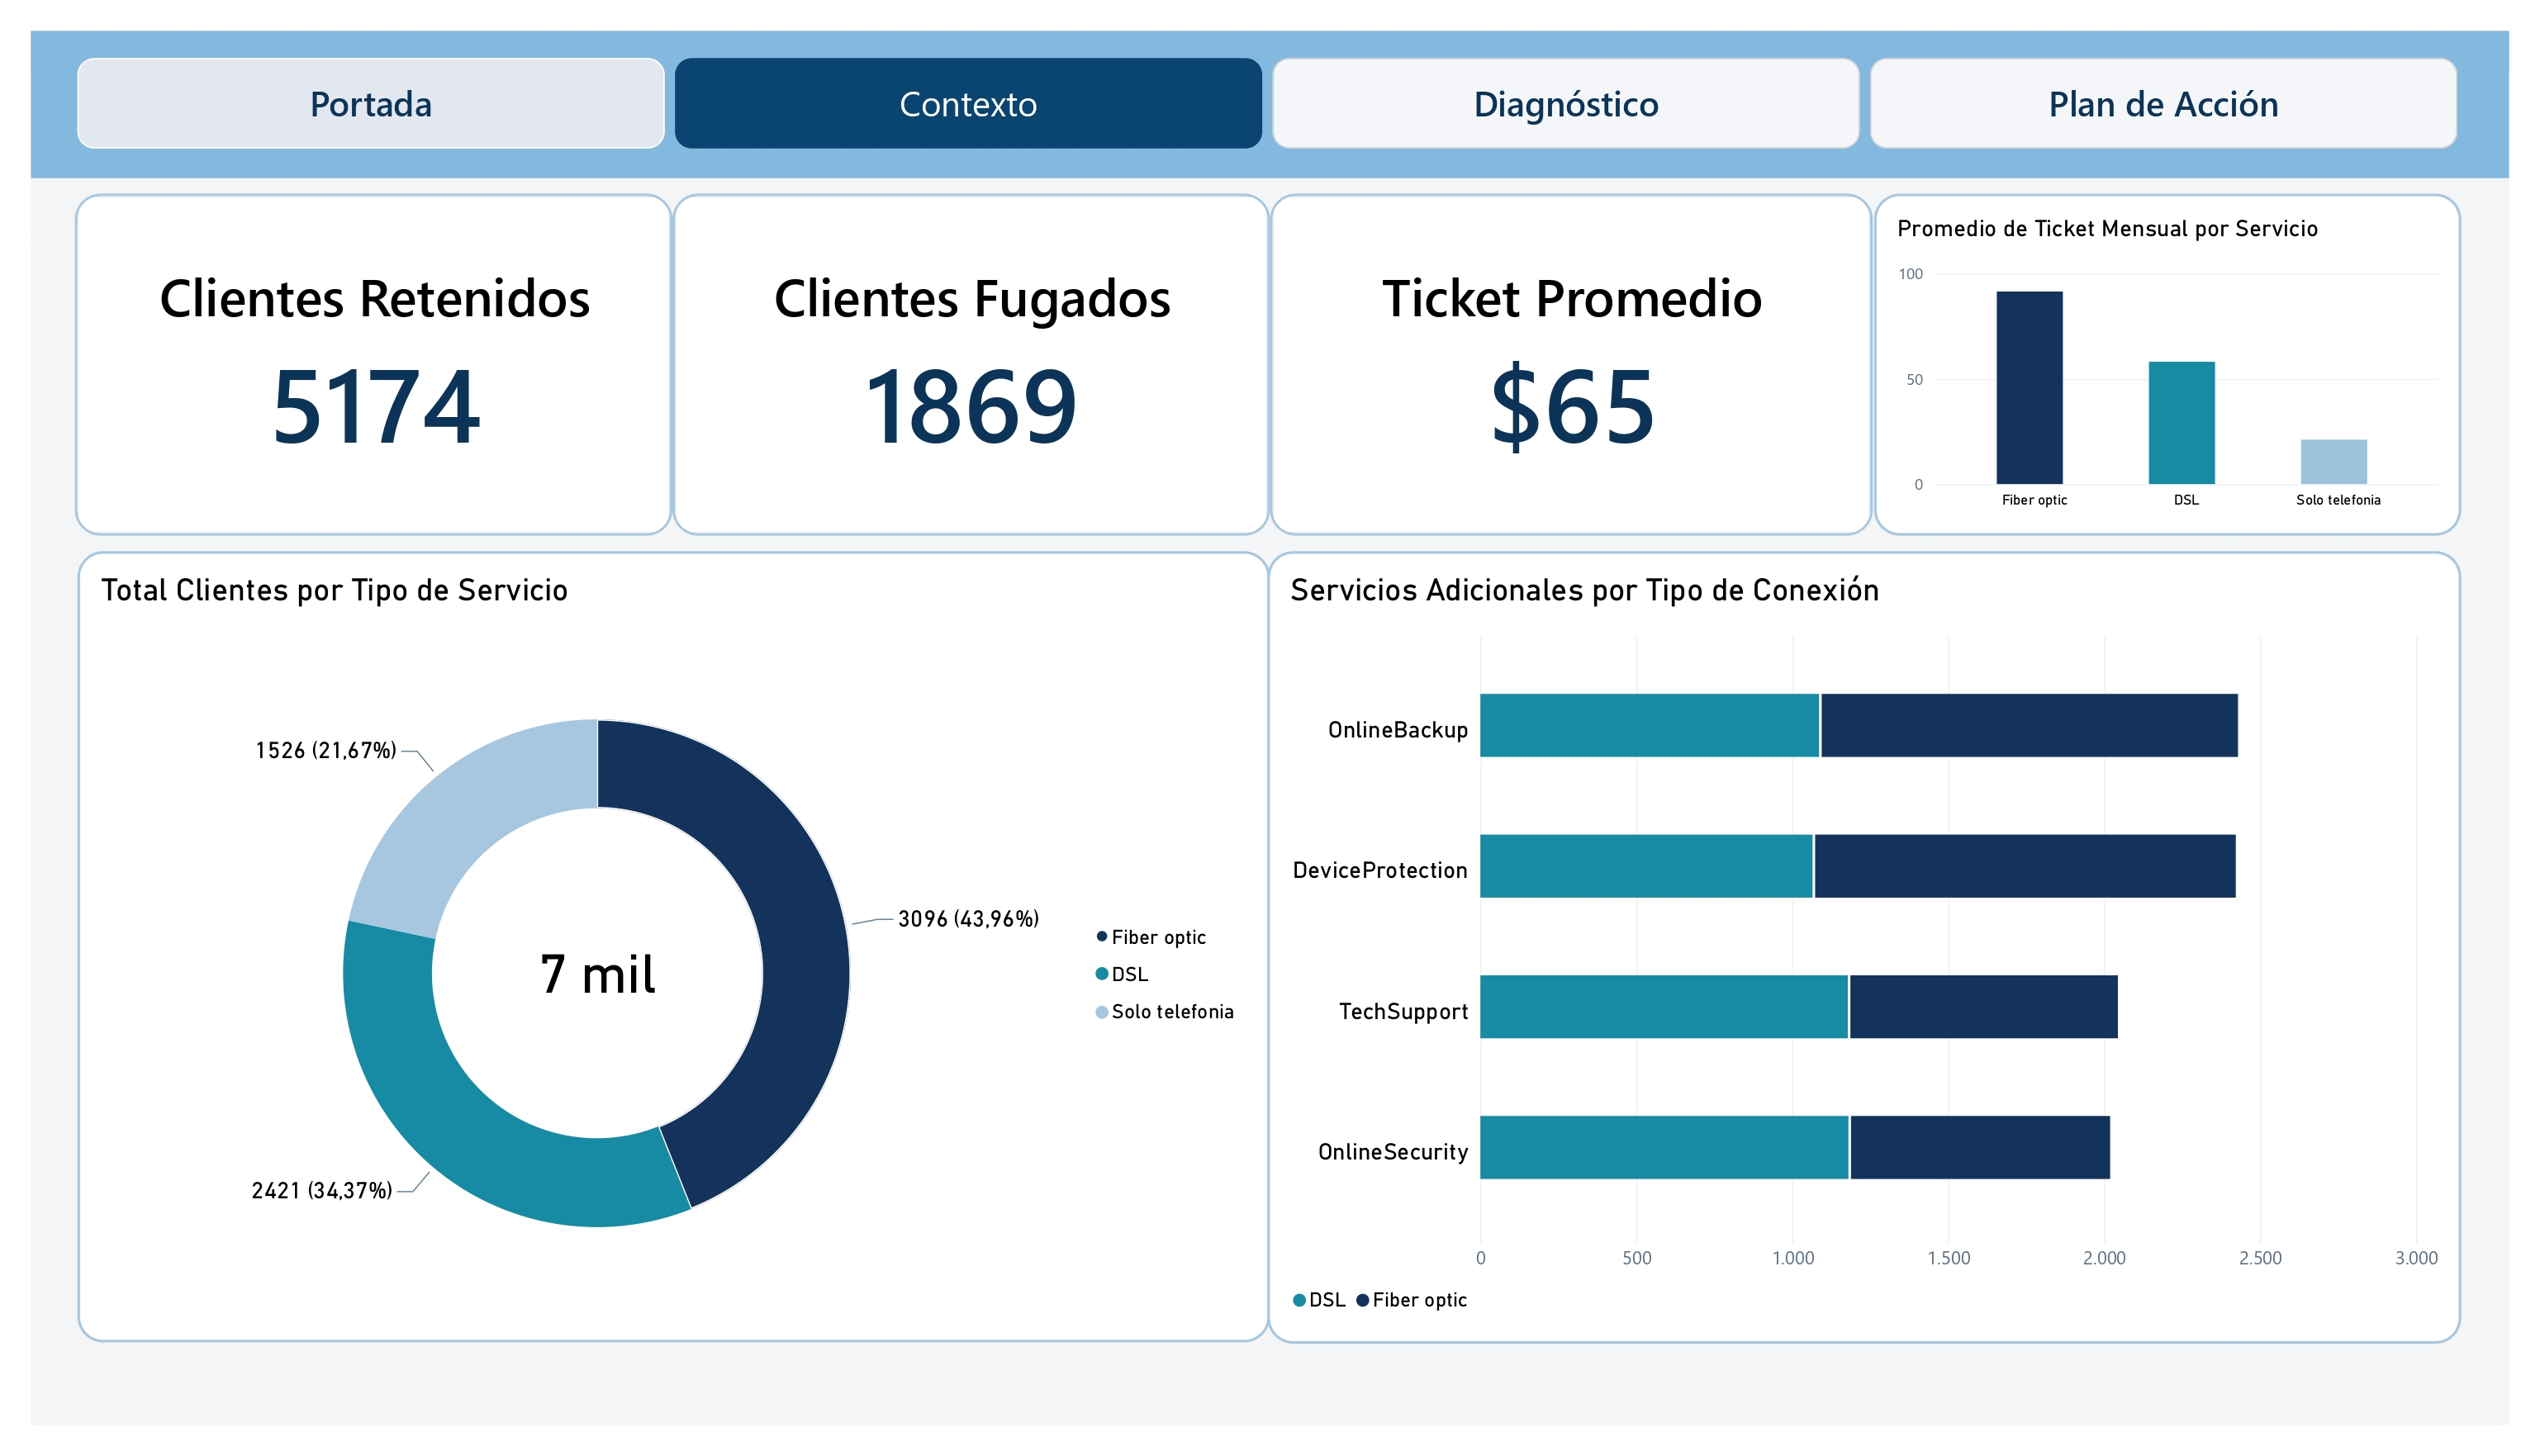

The page's visual inventory and layout, read from the dashboard file:
{"tool":"powerbi","page":{"name":"Contexto","canvas":[1920,1080],"ordinal":1},"visuals":[{"type":"shape","box":[0,0,1920,114],"z":0},{"type":"donutChart","title":"Total Clientes por Tipo de Servicio","fields":{"Category":["vw_Dim_Servicios.InternetService"],"Y":["_Medidas.Total Clientes"]},"box":[35.7,402.9,924.3,612.9],"z":1000},{"type":"barChart","title":"Servicios Adicionales por Tipo de Conexión","fields":{"Category":["Grafico_Apilado.Servicio"],"Series":["vw_Dim_Servicios.InternetService"],"Y":["CountNonNull(Grafico_Apilado.Valor)"]},"box":[958.3,403.3,925,613.3],"z":2000},{"type":"cardVisual","fields":{"Data":["_Medidas.Clientes Retenidos"]},"box":[34.3,125.7,462.9,265.7],"z":3000},{"type":"cardVisual","fields":{"Data":["_Medidas.Clientes Fugados"]},"box":[497.1,125.7,462.9,265.7],"z":4000},{"type":"cardVisual","fields":{"Data":["Avg(vw_Fact_Transacciones.MonthlyCharges)"]},"box":[960,125.7,467.1,265.7],"z":5000},{"type":"columnChart","title":"Promedio de Ticket Mensual por Servicio","fields":{"Category":["vw_Dim_Servicios.InternetService"],"Y":["Avg(vw_Fact_Transacciones.MonthlyCharges)"]},"box":[1427.5,126.2,455,265],"z":6000},{"type":"pageNavigator","box":[35.7,21.4,1847.5,70],"z":7000}]}

Visuals, with their boxes on the page's 1920x1080 design canvas (x1, y1, x2, y2). These are canvas units, not pixel positions in the 2540x1456 screenshot, which may show the page scaled, cropped or inside an application window:
shape: 0 0 1920 114
"Total Clientes por Tipo de Servicio" donutChart: 36 403 960 1016
"Servicios Adicionales por Tipo de Conexión" barChart: 958 403 1883 1017
cardVisual - _Medidas.Clientes Retenidos: 34 126 497 391
cardVisual - _Medidas.Clientes Fugados: 497 126 960 391
cardVisual - Avg(vw_Fact_Transacciones.MonthlyCharges): 960 126 1427 391
"Promedio de Ticket Mensual por Servicio" columnChart: 1428 126 1882 391
pageNavigator: 36 21 1883 91
